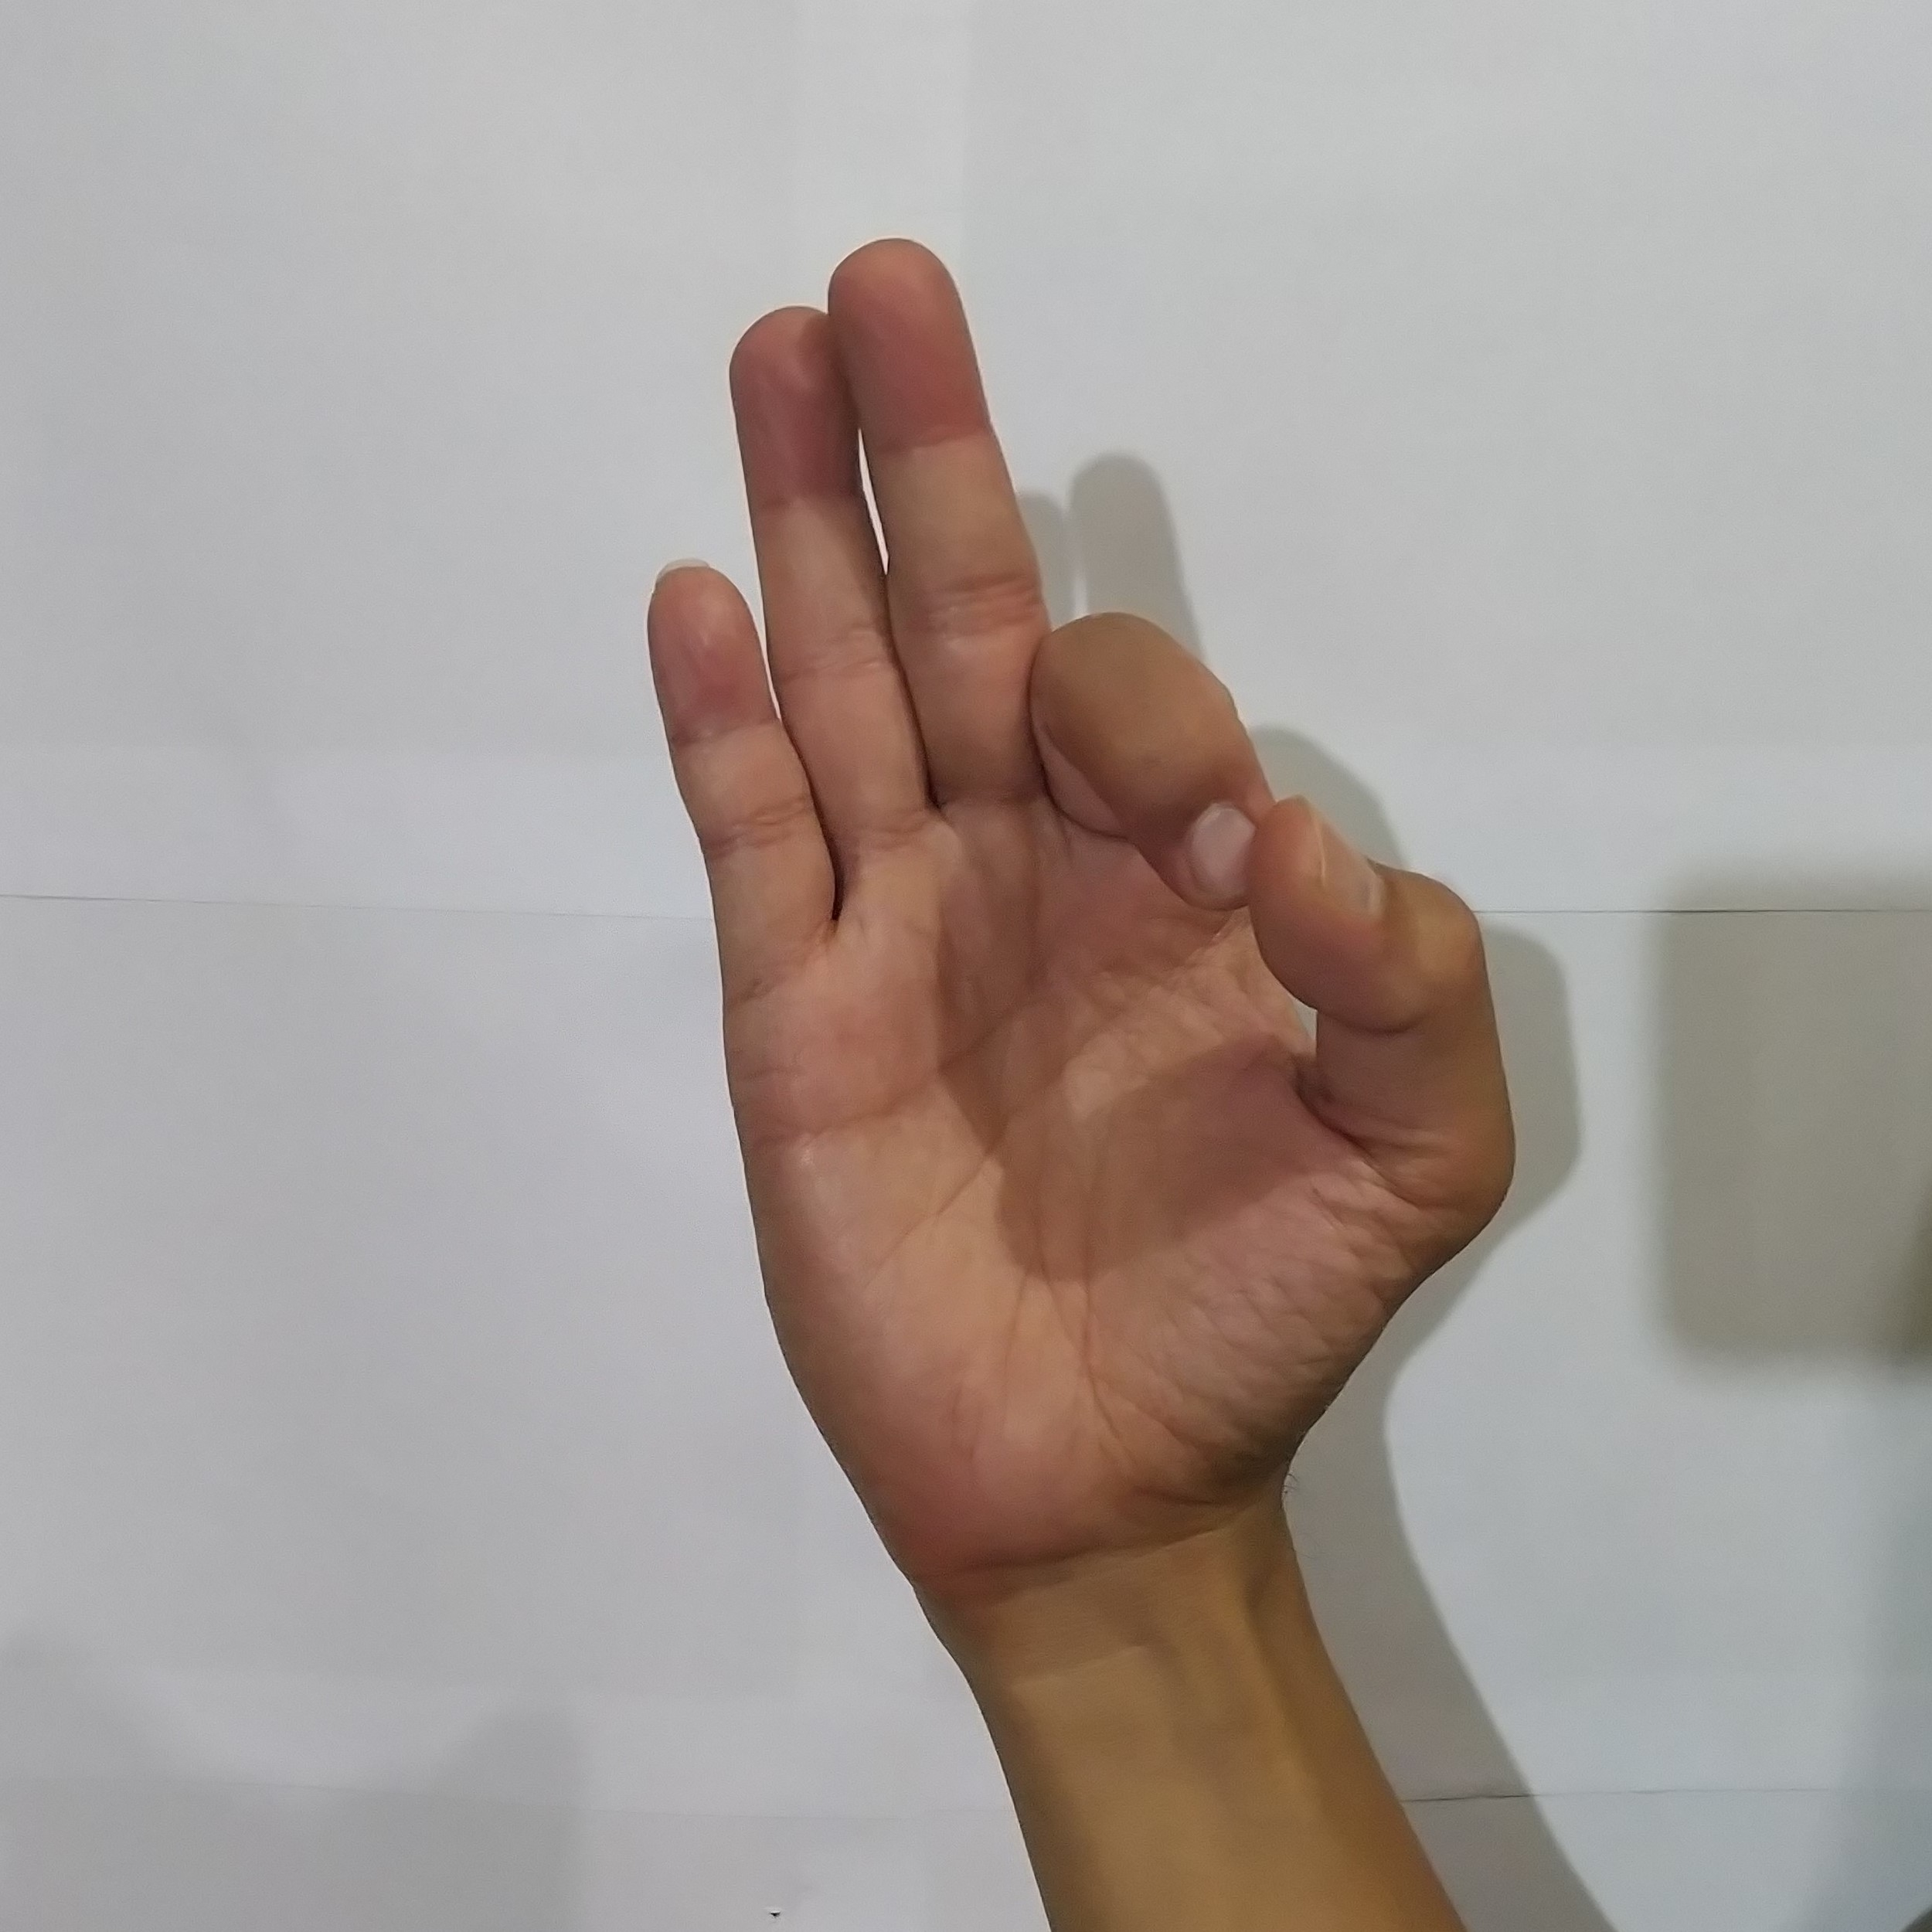F: (628, 225, 1536, 1507)
